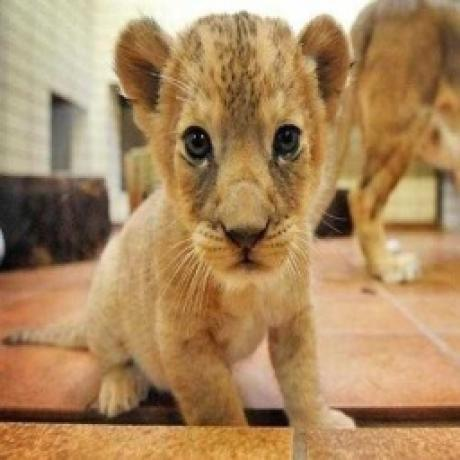Lion: (78, 5, 359, 429)
